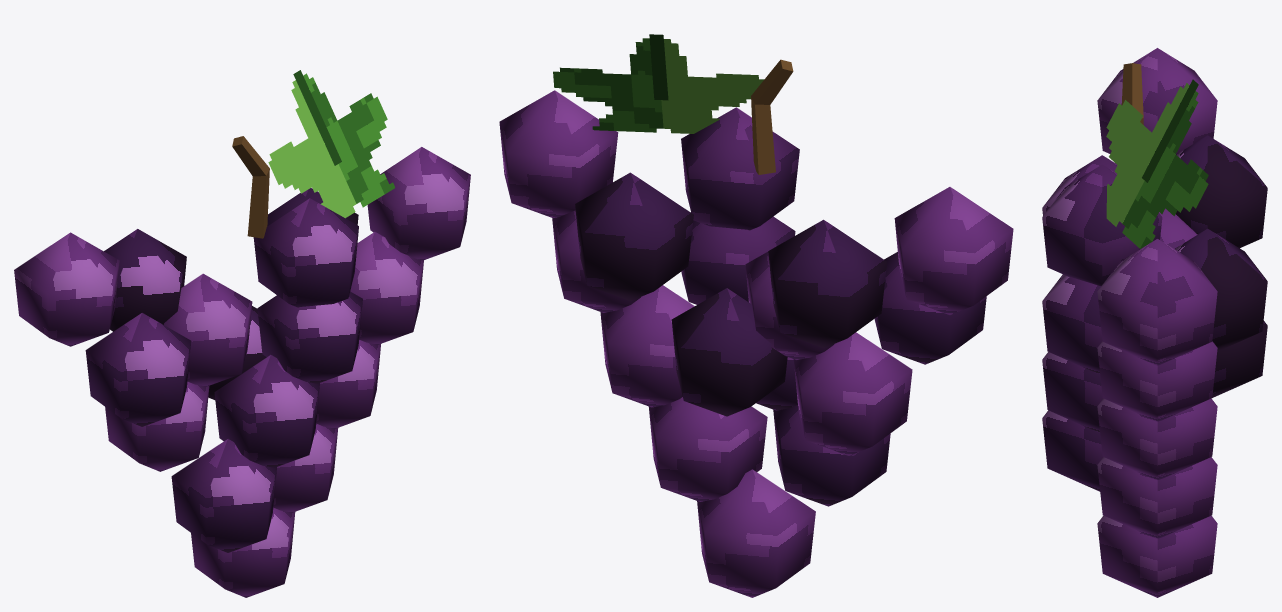
File: food3-grapes.glb
3 views of the same model, side by side, from view 1: azimuth 30°, elevation 25°; view 2: azimuth 150°, elevation 25°; view 3: azimuth 270°, elevation 25° (orthographic). The views are drawn at different scales.
Parts seen in each view (by area): view 1: food3.grapes; view 2: food3.grapes; view 3: food3.grapes.
Boxes of the visible parts, x1,y1,x2,y2 form: food3.grapes: (14,70,470,597); food3.grapes: (499,34,1013,597); food3.grapes: (1042,48,1267,597).
Size of the model in its own units: 1.5 by 1.68 by 0.5975.
Materials: 5 (4 with a texture image).
